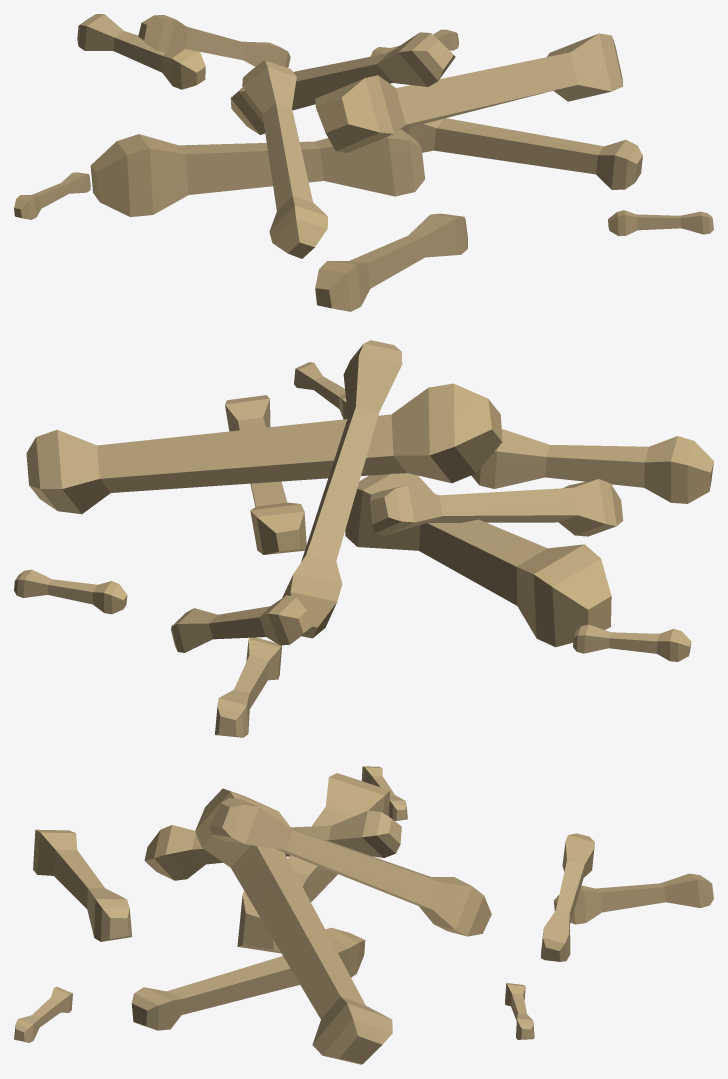
The model's file is Bone_pile_B.fbx.
3 views of the same model, one above another, from view 1: azimuth 30°, elevation 25°; view 2: azimuth 150°, elevation 25°; view 3: azimuth 270°, elevation 25° (orthographic). The views are drawn at different scales.
Visible parts, largest first — view 1: Bone_pile_B; view 2: Bone_pile_B; view 3: Bone_pile_B.
Part boxes in pixels (box(x1,y1,x2,y2)): Bone_pile_B: box(14, 14, 713, 311); Bone_pile_B: box(14, 340, 713, 737); Bone_pile_B: box(14, 766, 713, 1064).
Size of the model in its own units: 66.56 by 17.18 by 68.14.
